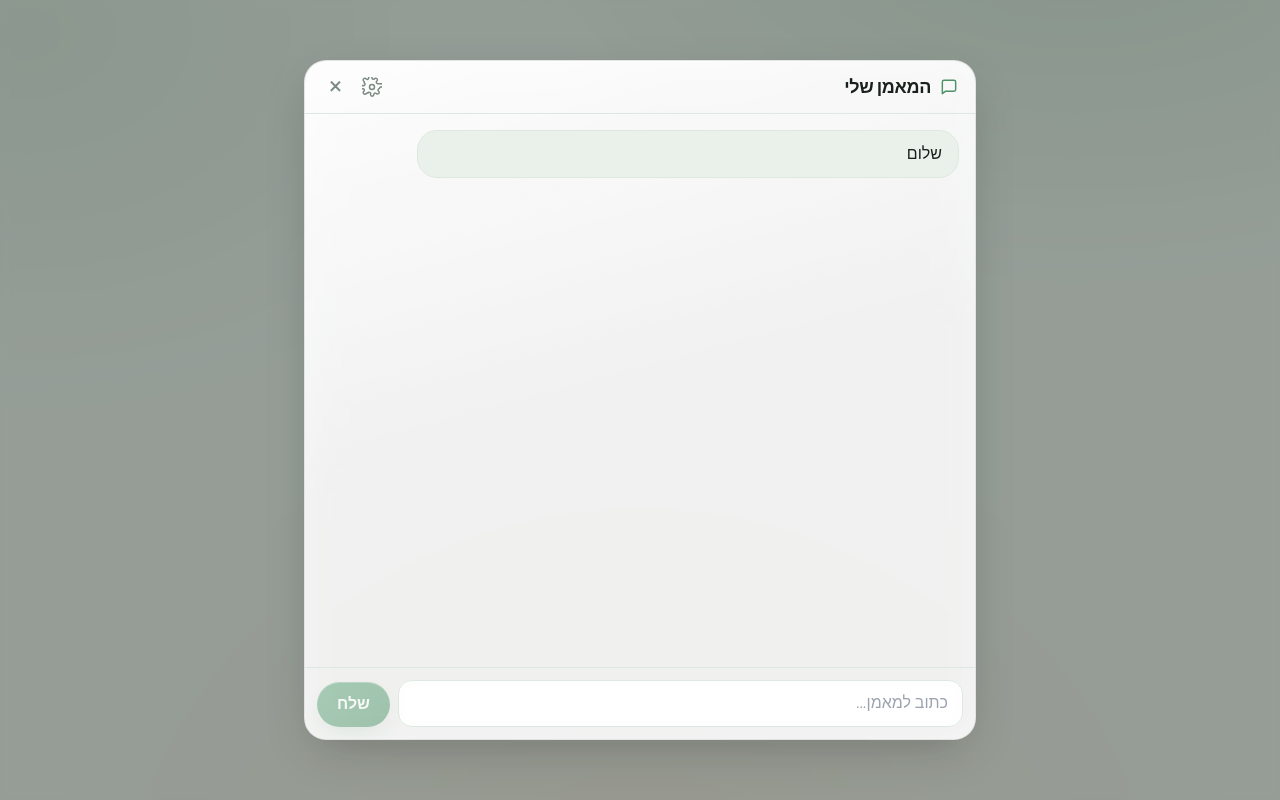
cancelling › frees the panel to send again
The image size is (1280, 800).
Type "ראשונה" into the text box with placeholder "כתוב למאמן…" at (680, 704), box top-left (398, 680), bottom-right (963, 727)
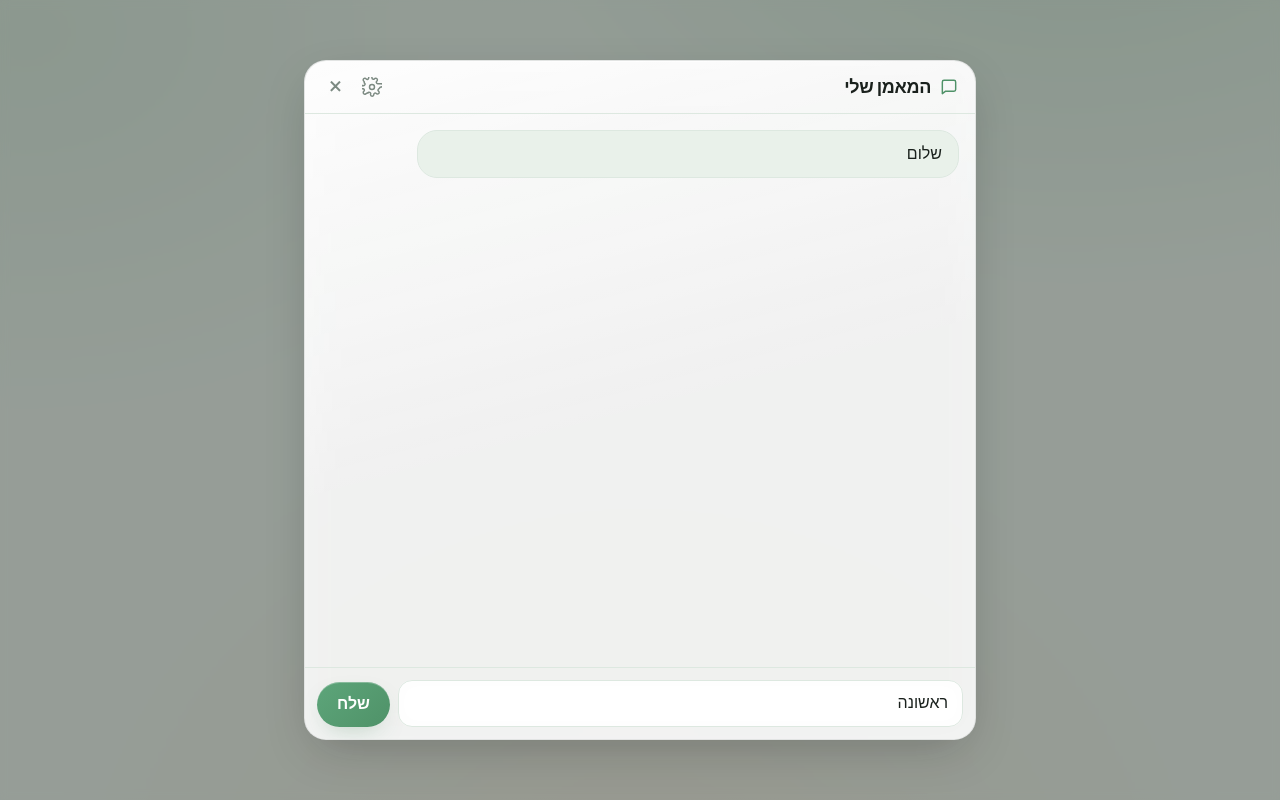
Click the button "שלח" at (353, 705), box top-left (317, 682), bottom-right (390, 727)
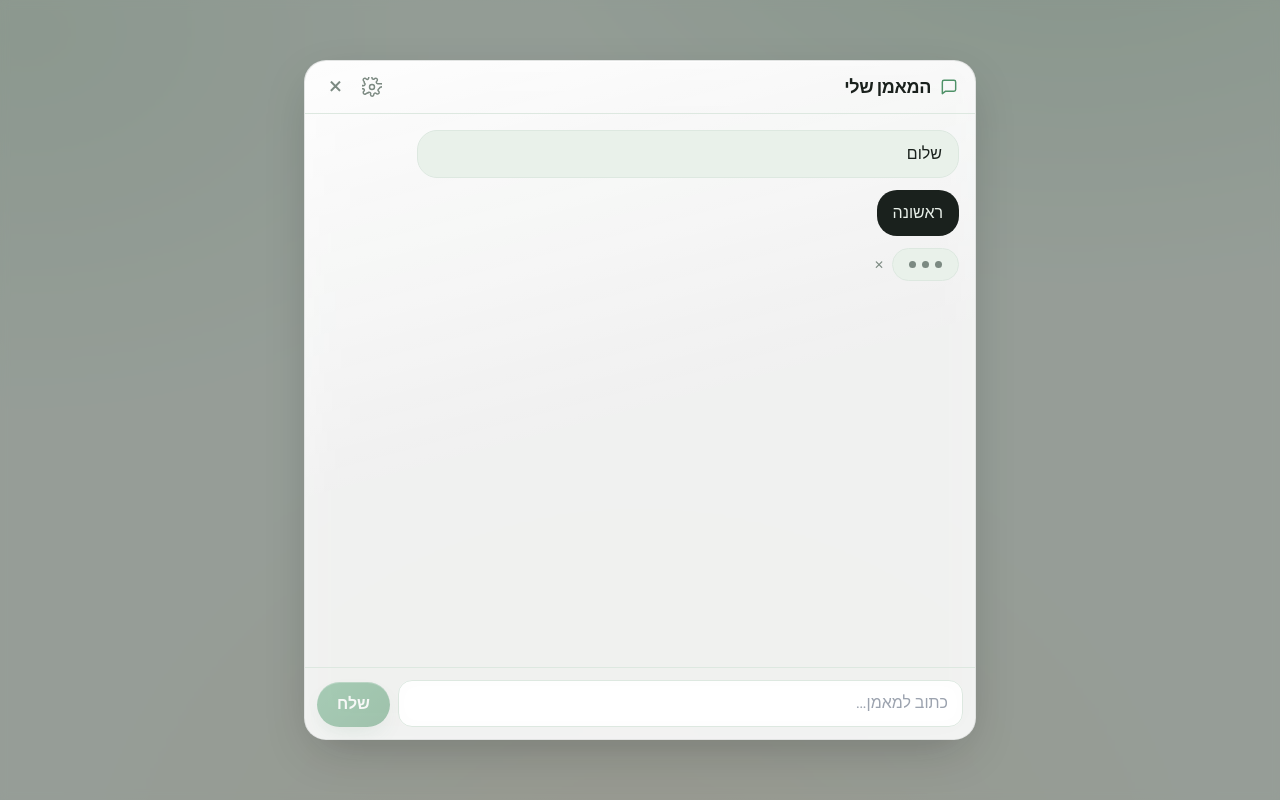
Click the button titled "בטל" at (879, 264), box top-left (874, 256), bottom-right (884, 272)
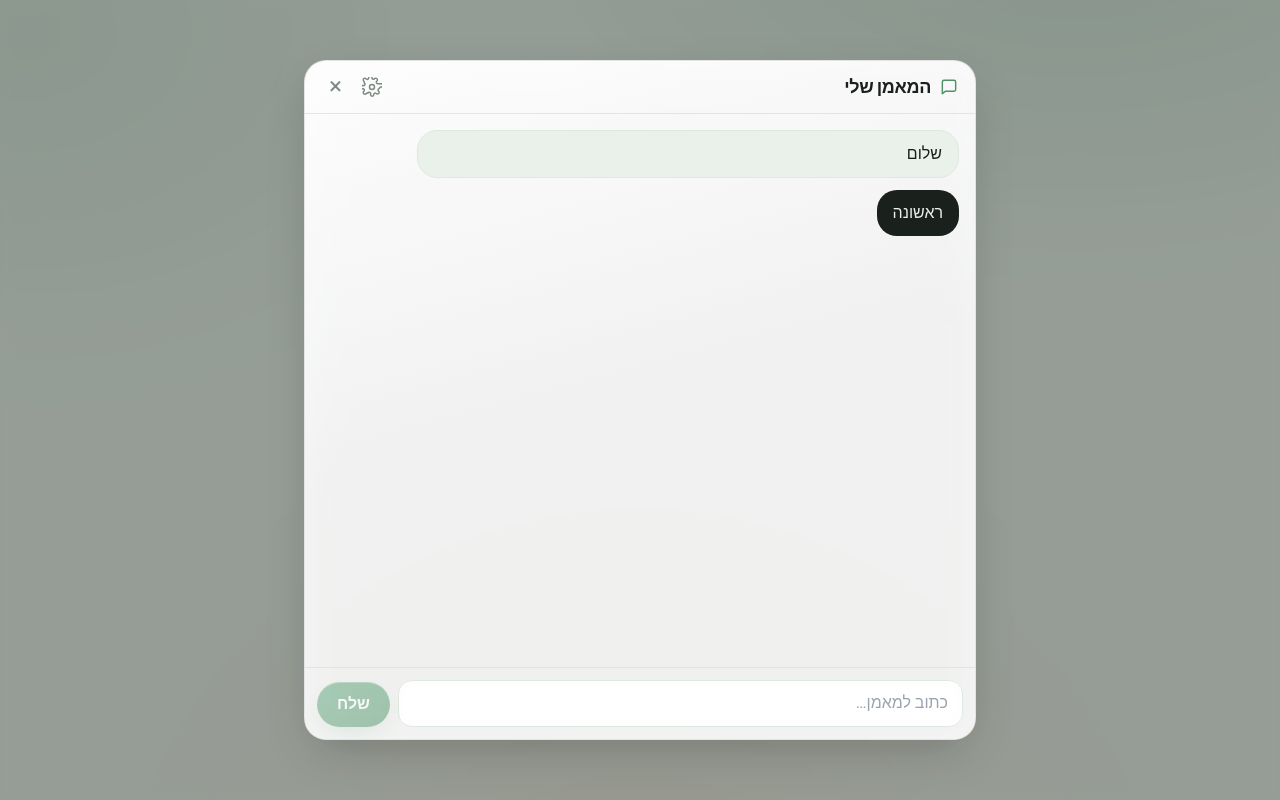
Type "שנייה" into the text box with placeholder "כתוב למאמן…" at (680, 704), box top-left (398, 680), bottom-right (963, 727)
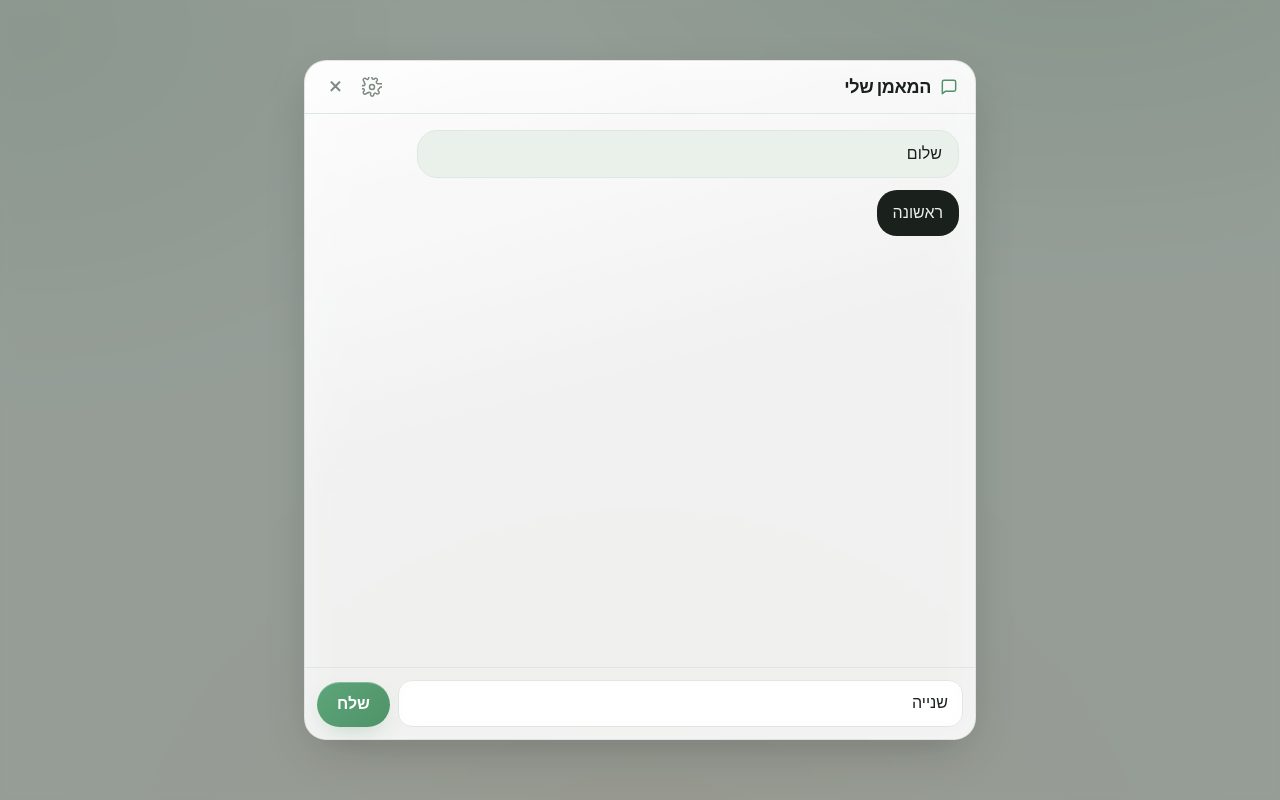
Click the button "שלח" at (353, 705), box top-left (317, 682), bottom-right (390, 727)
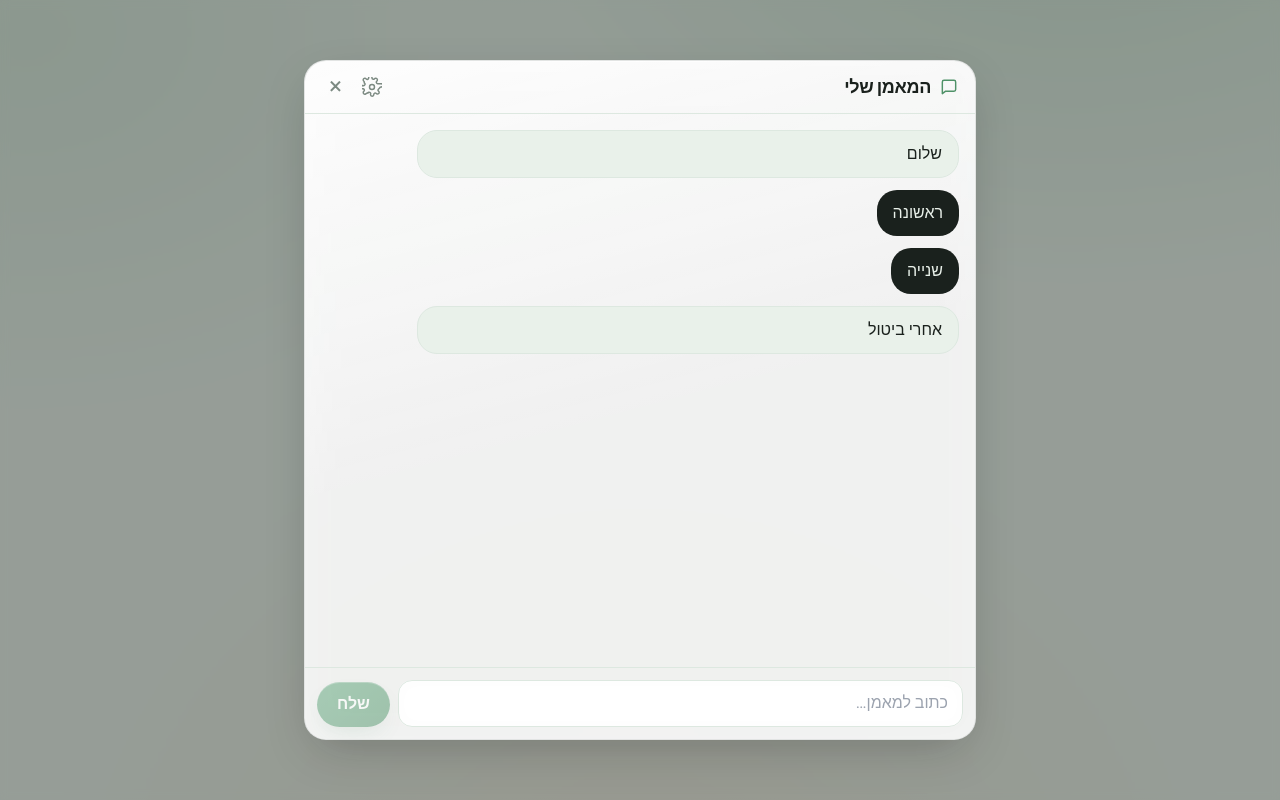
Expected: the text "אחרי ביטול" is shown, top-left (417, 306), bottom-right (959, 354)
